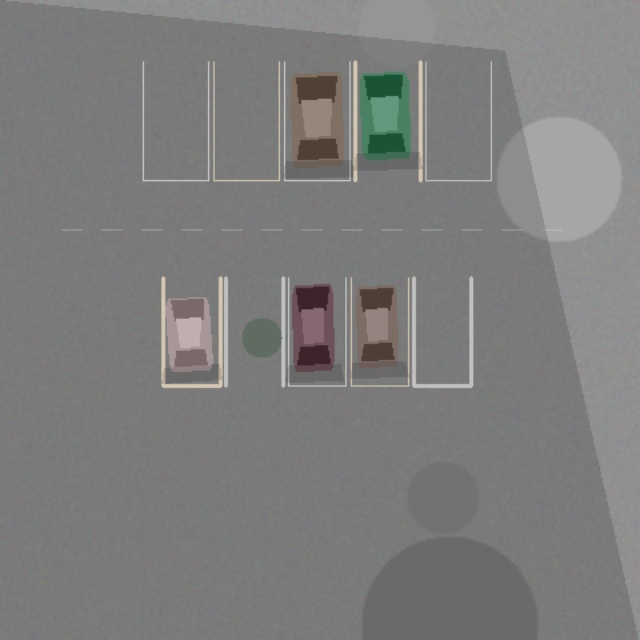space-empty: (213, 61, 279, 180), (425, 61, 491, 180), (143, 61, 208, 180), (225, 277, 283, 385), (413, 277, 471, 385)
space-occupied: (284, 61, 349, 180), (355, 61, 420, 180), (163, 277, 220, 385), (288, 277, 345, 385), (351, 277, 408, 385)
